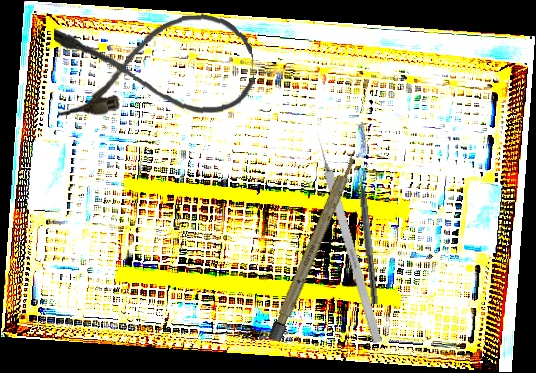Cannula: (53, 11, 256, 122)
Chopper: (354, 165, 388, 305)
Hook Surgical: (312, 130, 383, 344)
Scalpel Handle: (267, 152, 359, 343)
